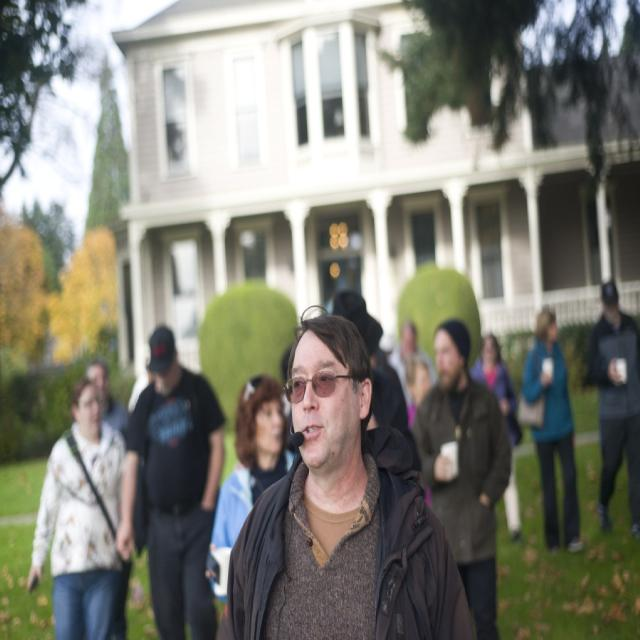body: (215, 301, 486, 639), (264, 303, 526, 547), (111, 321, 233, 639), (410, 319, 512, 640), (25, 376, 134, 639), (205, 374, 300, 606), (513, 302, 589, 559), (330, 288, 424, 481), (77, 357, 132, 638), (586, 278, 640, 539), (134, 356, 156, 401)
